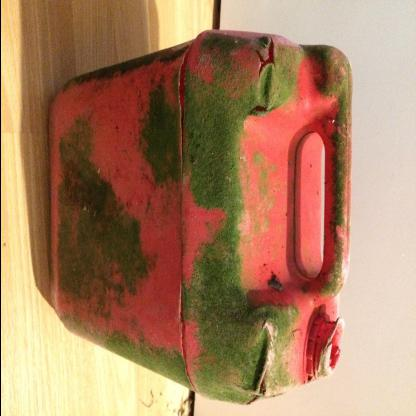plastik: (9, 44, 388, 352)
